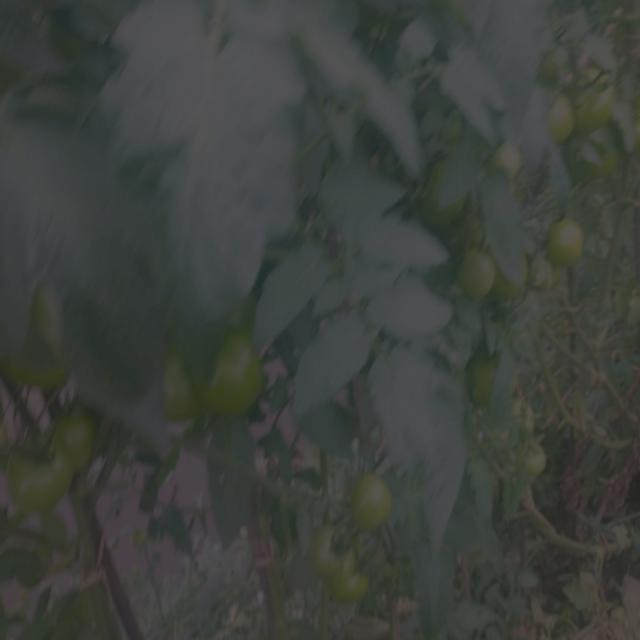tomato: (5, 435, 73, 507), (211, 331, 262, 413), (45, 406, 102, 478), (161, 360, 206, 426), (344, 471, 392, 529), (569, 68, 619, 123), (302, 519, 353, 571), (457, 244, 502, 301), (325, 561, 371, 600), (549, 220, 583, 267), (551, 92, 578, 145), (411, 181, 445, 222), (513, 440, 546, 480), (513, 398, 537, 436), (471, 362, 498, 395), (495, 149, 522, 178)
